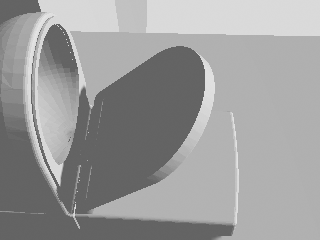lid_1: (74, 46, 214, 213)
